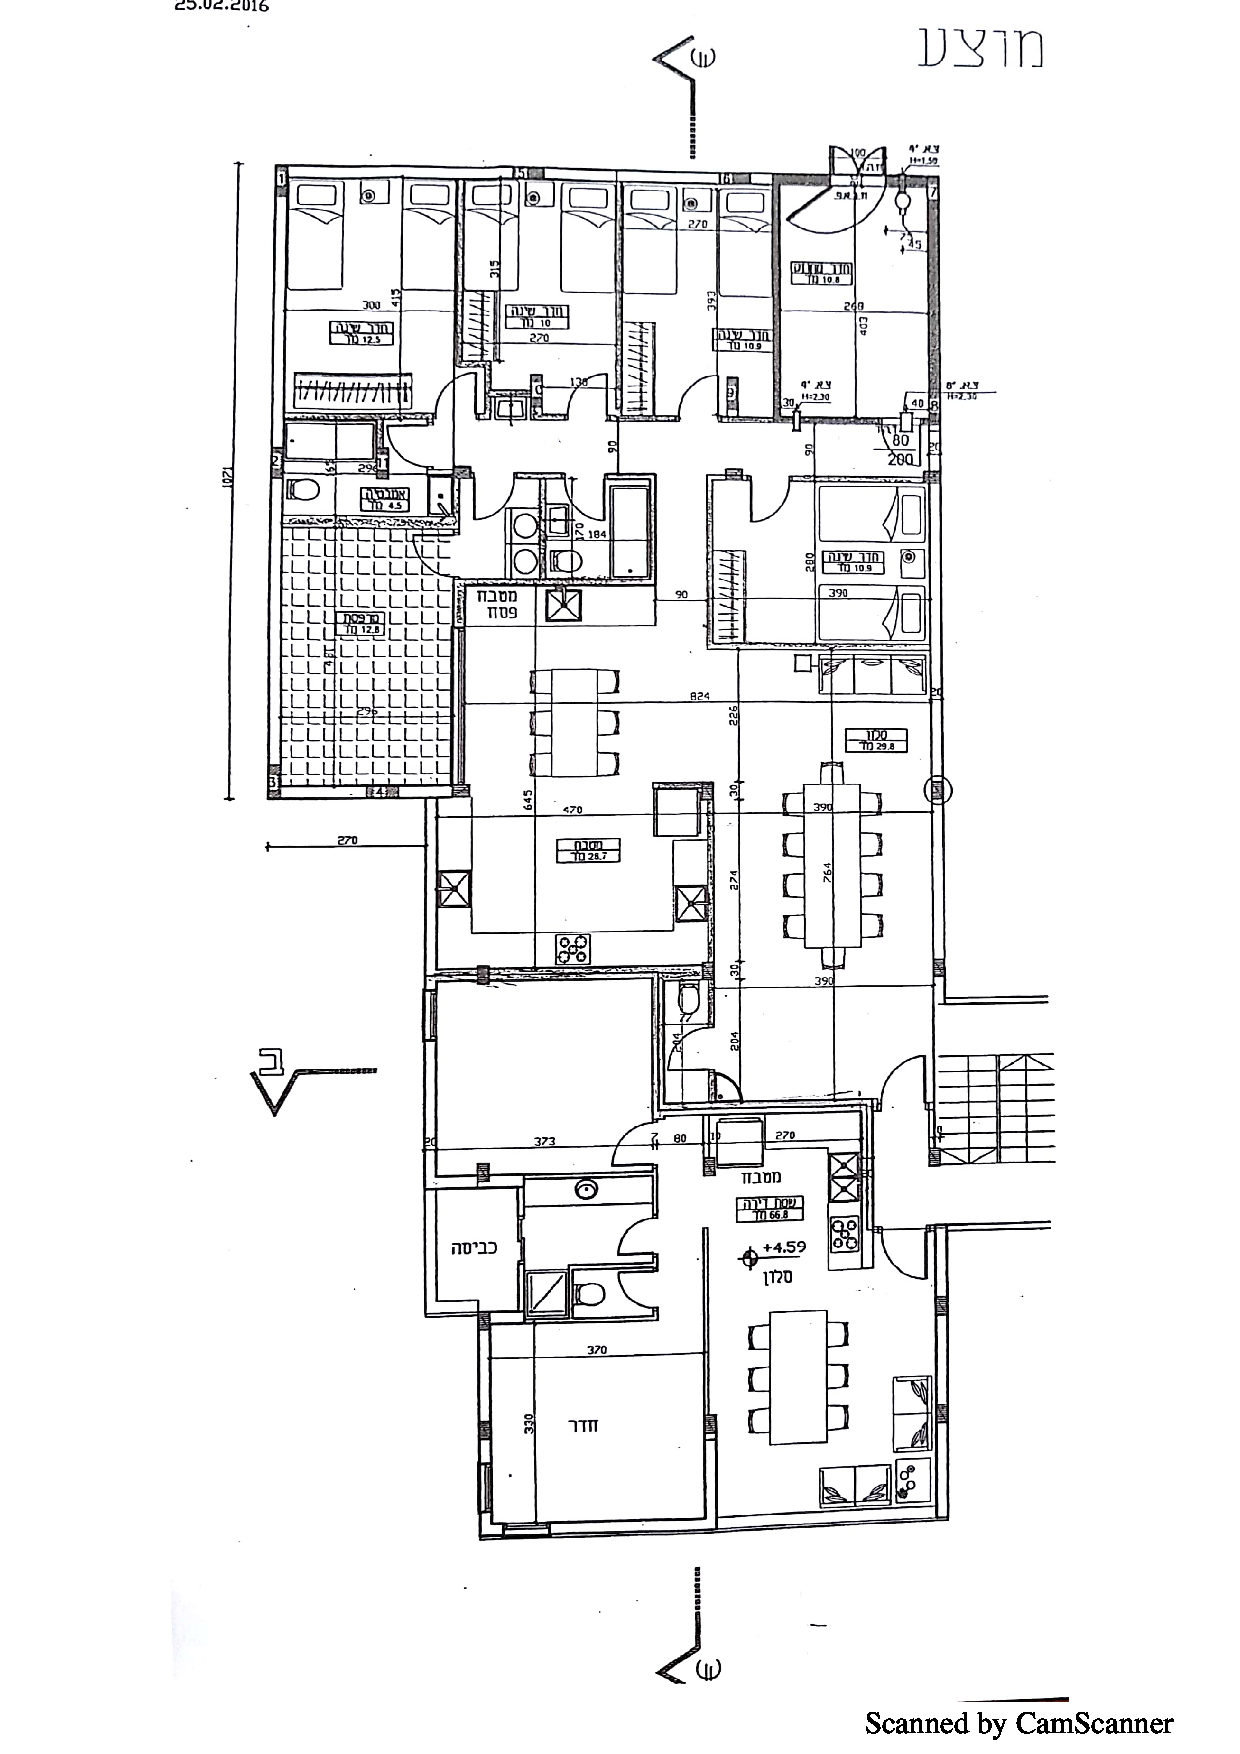door: (876, 1235, 931, 1282), (874, 1052, 929, 1096), (664, 1023, 710, 1075), (560, 370, 611, 413), (467, 480, 517, 523), (560, 483, 609, 526), (742, 483, 792, 526), (672, 373, 722, 416), (429, 368, 480, 409), (608, 1119, 650, 1169), (609, 1209, 651, 1259), (382, 421, 424, 470), (615, 1270, 652, 1312)
window: (476, 1461, 493, 1512), (505, 1522, 552, 1537)
